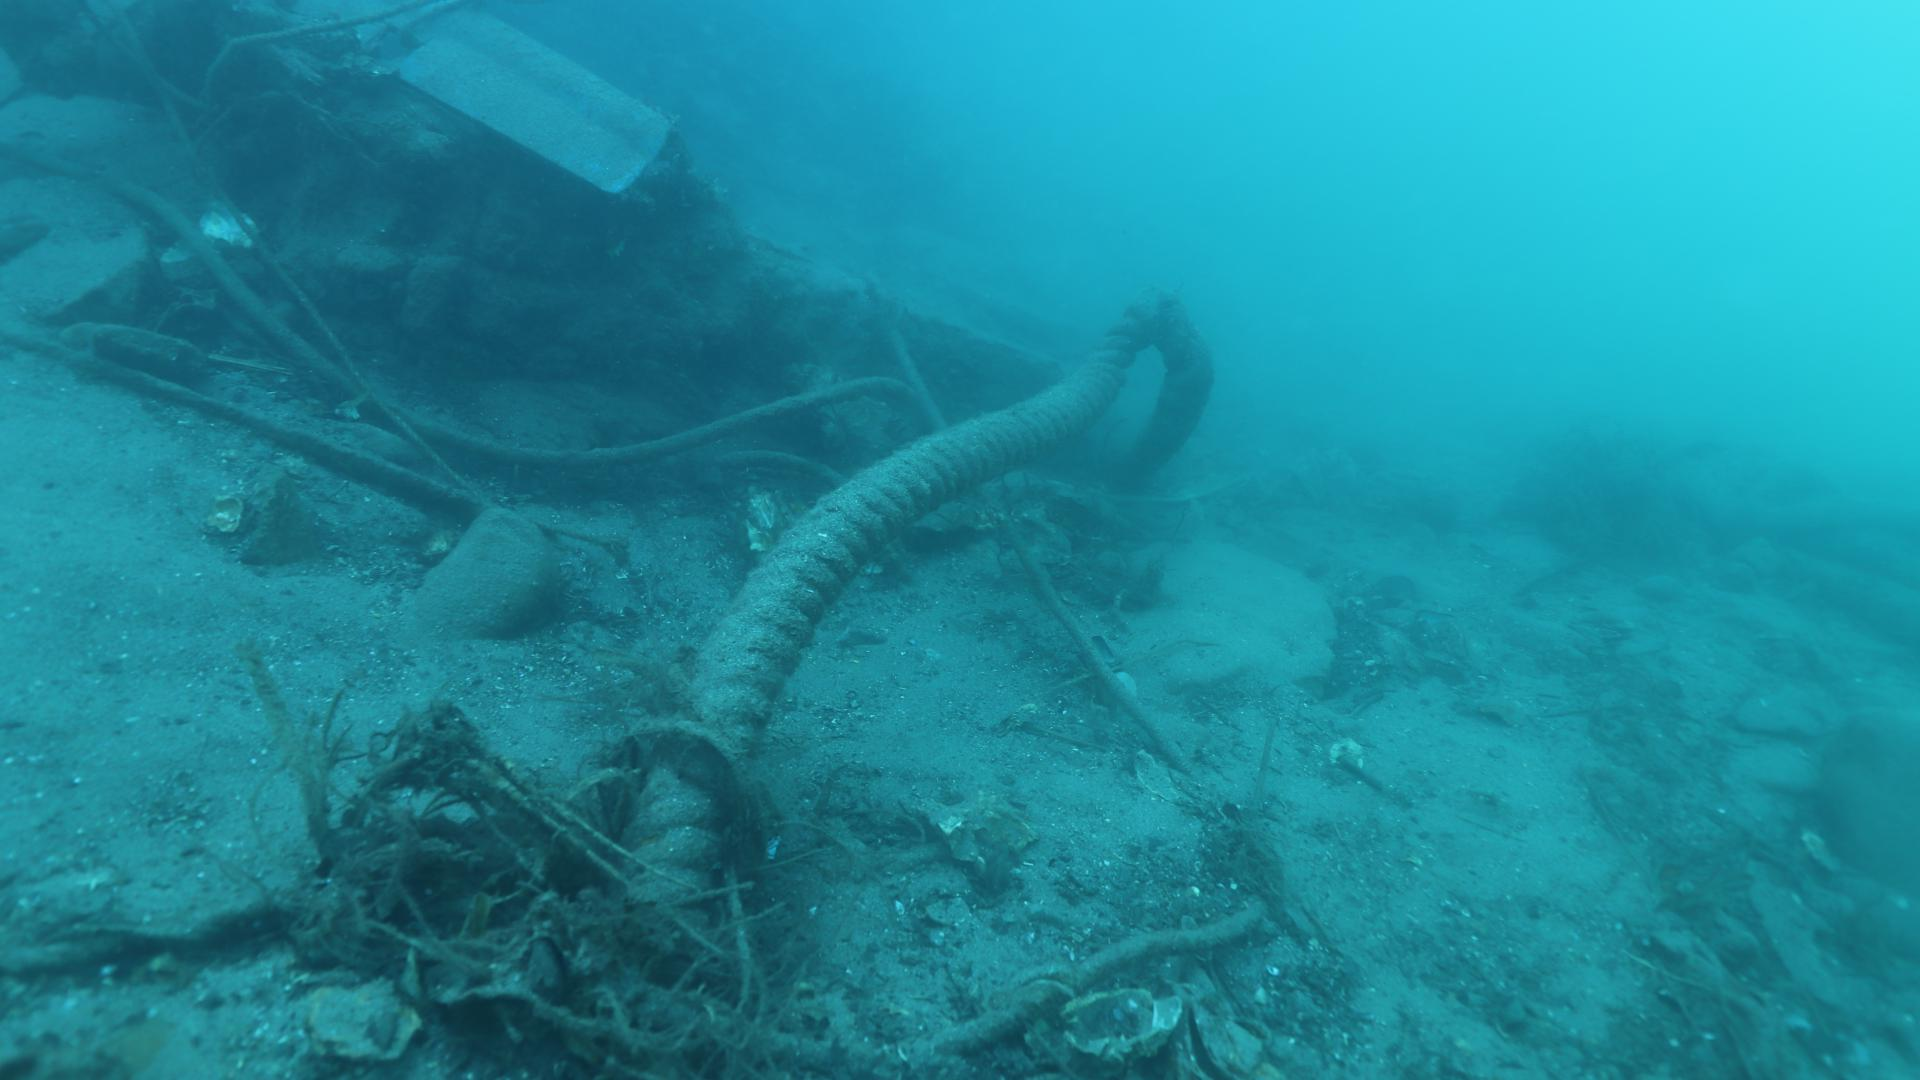rope: (621, 284, 1213, 910)
